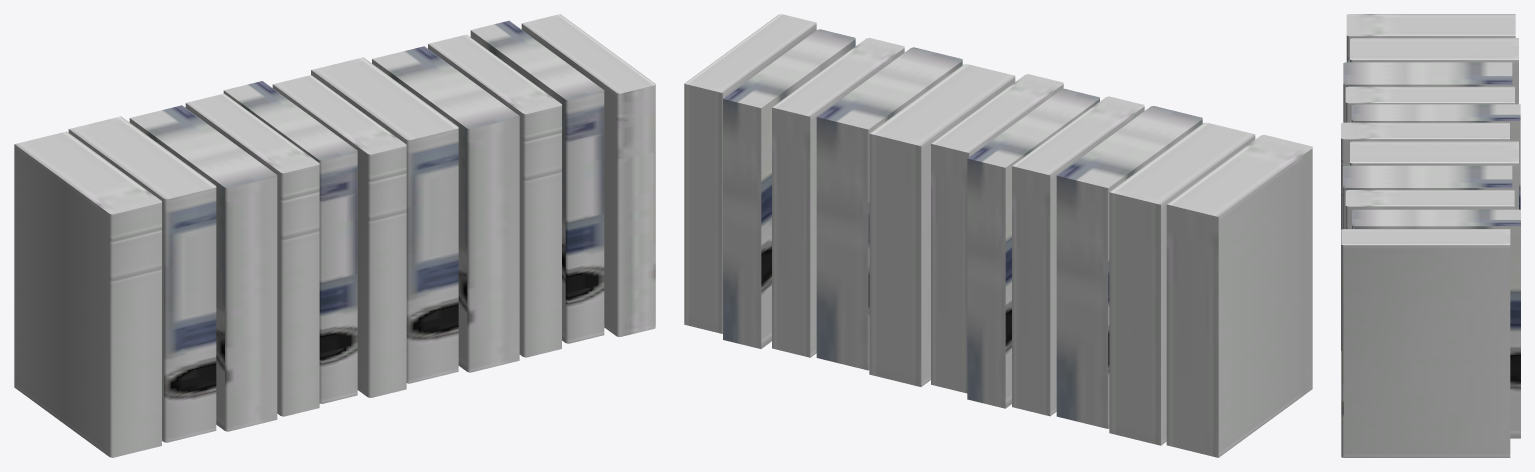
Rendered from Binders01.FBX.
The picture shows the model from 3 angles, left to right: view 1: azimuth 30°, elevation 25°; view 2: azimuth 150°, elevation 25°; view 3: azimuth 270°, elevation 25°; orthographic projection. The views are drawn at different scales.
Visible parts, largest first — view 1: Binders01; view 2: Binders01; view 3: Binders01.
Part boxes in pixels (box(x1,y1,x2,y2)): Binders01: box(14, 14, 655, 457); Binders01: box(684, 14, 1312, 457); Binders01: box(1341, 14, 1520, 457).
Size of the model in its own units: 0.6989 by 0.2995 by 0.2295.
